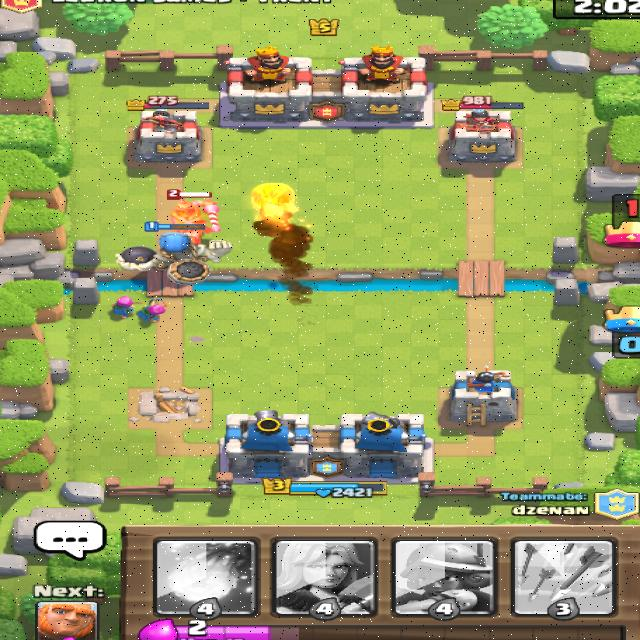Enemy-Prince: (163, 188, 220, 244)
Player-Archer: (135, 295, 167, 322), (107, 295, 136, 319)
Player-Fireball: (247, 180, 299, 218)
Player-GiantSkeleton: (112, 220, 232, 286)
